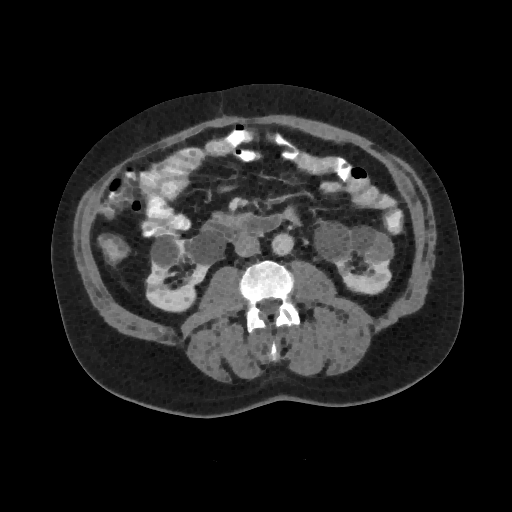Lesion: (367, 228, 396, 265)
